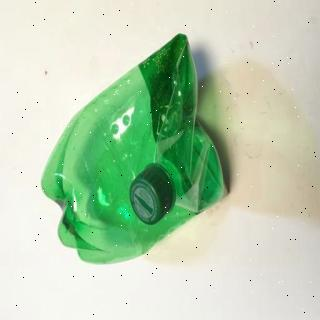Plastic-bottle: (40, 32, 232, 269)
